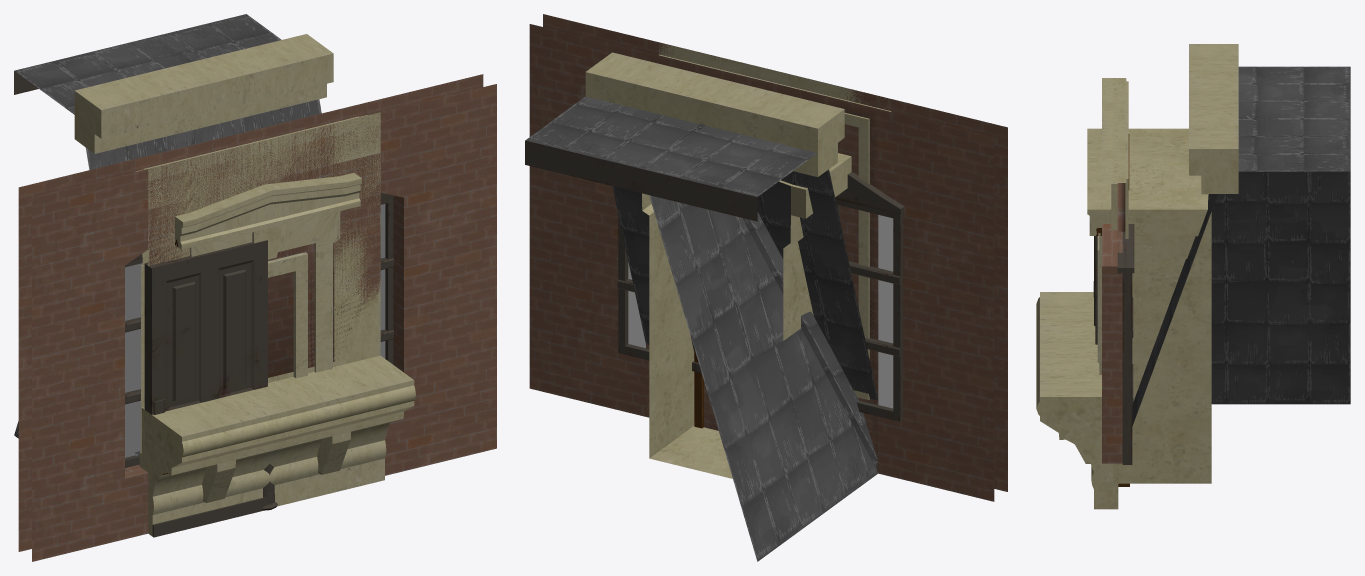
File: architecture-mobile.glb
3 renders of one model, left to right at view 1: azimuth 30°, elevation 25°; view 2: azimuth 150°, elevation 25°; view 3: azimuth 270°, elevation 25°, orthographic. The views are drawn at different scales.
Parts seen in each view (by area): view 1: Brick_Window_CurvedDouble, Cornice_Trim_Center, Roof_SlateCornice_Center, Door_1, Roof_Slate_Window_1, Trim_Window, Brick_Window_Square_Single, Brick_Plain_3, Trim_FirstFloor_Window.001, Roof_Slate_Corner, DoorFrame_Trim; view 2: Brick_Window_CurvedDouble, Roof_Slate_Corner, Roof_Slate_Window_1, Roof_SlateCornice_Center, Trim_FirstFloor_Window.001, Brick_Plain_3, Brick_Window_Square_Single, DoorFrame_Trim, Trim_Window; view 3: Roof_Slate_Window_1, Roof_Slate_Corner, Roof_SlateCornice_Center, Cornice_Trim_Center, Brick_Window_CurvedDouble, Trim_FirstFloor_Window.001, DoorFrame_Trim, Door_1.
Boxes of the visible parts, bbox=[...] form: Brick_Window_CurvedDouble: bbox=[18, 74, 496, 561]; Cornice_Trim_Center: bbox=[141, 355, 415, 536]; Roof_SlateCornice_Center: bbox=[14, 14, 333, 455]; Door_1: bbox=[144, 240, 268, 537]; Roof_Slate_Window_1: bbox=[14, 14, 361, 454]; Trim_Window: bbox=[135, 104, 380, 451]; Brick_Window_Square_Single: bbox=[135, 106, 380, 378]; Brick_Plain_3: bbox=[136, 103, 380, 377]; Trim_FirstFloor_Window.001: bbox=[135, 102, 380, 453]; Roof_Slate_Corner: bbox=[14, 14, 298, 438]; DoorFrame_Trim: bbox=[135, 102, 367, 468]; Brick_Window_CurvedDouble: bbox=[529, 14, 1007, 501]; Roof_Slate_Corner: bbox=[531, 100, 877, 561]; Roof_Slate_Window_1: bbox=[525, 96, 877, 478]; Roof_SlateCornice_Center: bbox=[525, 52, 850, 382]; Trim_FirstFloor_Window.001: bbox=[646, 42, 890, 471]; Brick_Plain_3: bbox=[646, 56, 878, 471]; Brick_Window_Square_Single: bbox=[647, 46, 878, 472]; DoorFrame_Trim: bbox=[646, 53, 890, 444]; Trim_Window: bbox=[646, 44, 889, 461]; Roof_Slate_Window_1: bbox=[1087, 66, 1350, 483]; Roof_Slate_Corner: bbox=[1211, 116, 1350, 404]; Roof_SlateCornice_Center: bbox=[1118, 44, 1350, 464]; Cornice_Trim_Center: bbox=[1036, 292, 1114, 509]; Brick_Window_CurvedDouble: bbox=[1102, 224, 1134, 464]; Trim_FirstFloor_Window.001: bbox=[1102, 78, 1128, 238]; DoorFrame_Trim: bbox=[1102, 78, 1129, 509]; Door_1: bbox=[1093, 236, 1097, 344].
Size of the model in its own units: 4 by 3.21 by 2.53.
6 materials, 4 textured.
